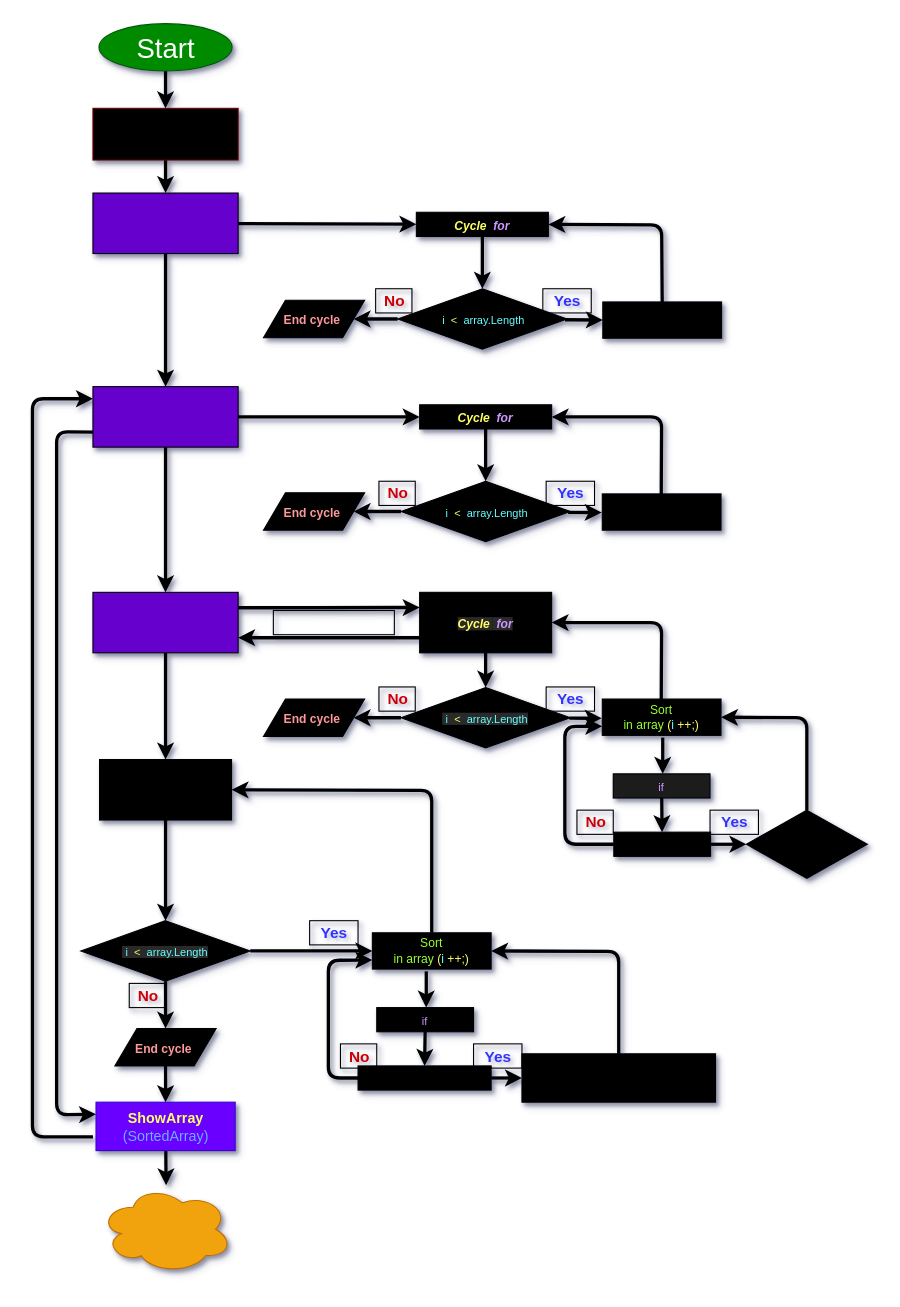
The diagram is 900 pixels wide and 1307 high, and some of its shapes have lost their labels. The shapes that lost their labels are listed below. From the top down, each one's centre as x and y in pixels, then its label:
the point at 166,135: Input quantity of array elements (N)
the point at 166,224: void GetArray (inputArray)
the point at 662,321: Insert string to array ( i ++;)
the point at 166,418: void ShowArray (inputArray)
the point at 662,513: Print array ( i ++;)
the point at 166,624: int SortArray (inputArray)
the point at 334,623: return count ;
the point at 166,791: int count = 0; Cycle for
the point at 662,845: array [ i ]. Length > 3
the point at 807,845: array [ i ] = " " ; array.Length --;
the point at 425,1079: inputArray [ i ] != " " ;
the point at 619,1079: SortedArray [ count ] = inputArray [ i ]; count ++;
the point at 167,1230: End
